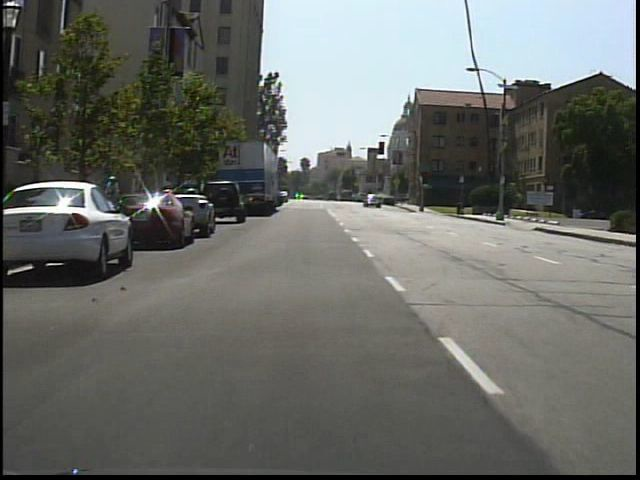person: (75, 167, 100, 227), (104, 171, 127, 224)
